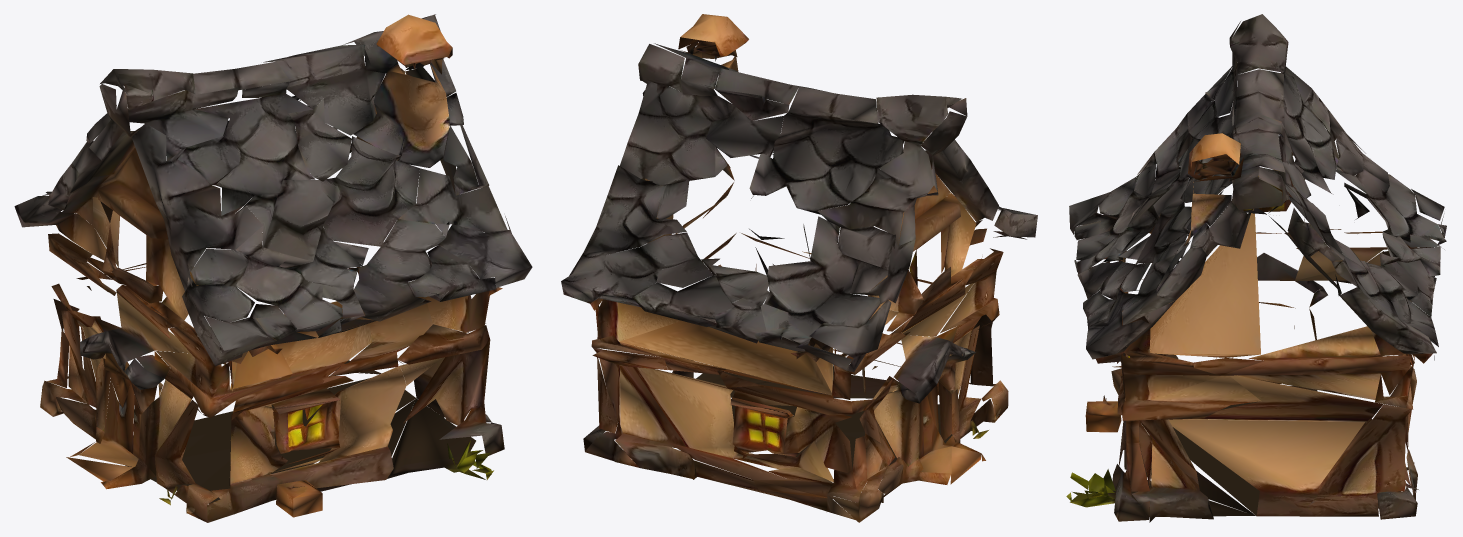
The model's file is tripo-casa153-lod.glb.
3 renders of one model, left to right at view 1: azimuth 30°, elevation 25°; view 2: azimuth 150°, elevation 25°; view 3: azimuth 270°, elevation 25°, orthographic. The views are drawn at different scales.
Visible parts, largest first — view 1: tripo_node_920a10be-f5ef-4ef0-be55-76ca921e4b25; view 2: tripo_node_920a10be-f5ef-4ef0-be55-76ca921e4b25; view 3: tripo_node_920a10be-f5ef-4ef0-be55-76ca921e4b25.
Boxes of the visible parts, x1,y1,x2,y2 form: tripo_node_920a10be-f5ef-4ef0-be55-76ca921e4b25: (14, 14, 532, 522); tripo_node_920a10be-f5ef-4ef0-be55-76ca921e4b25: (561, 14, 1037, 522); tripo_node_920a10be-f5ef-4ef0-be55-76ca921e4b25: (1066, 14, 1446, 522).
Bounding box in the file's own units: 0.8994 × 0.9873 × 0.9144.
Materials: 1 (1 with a texture image).
